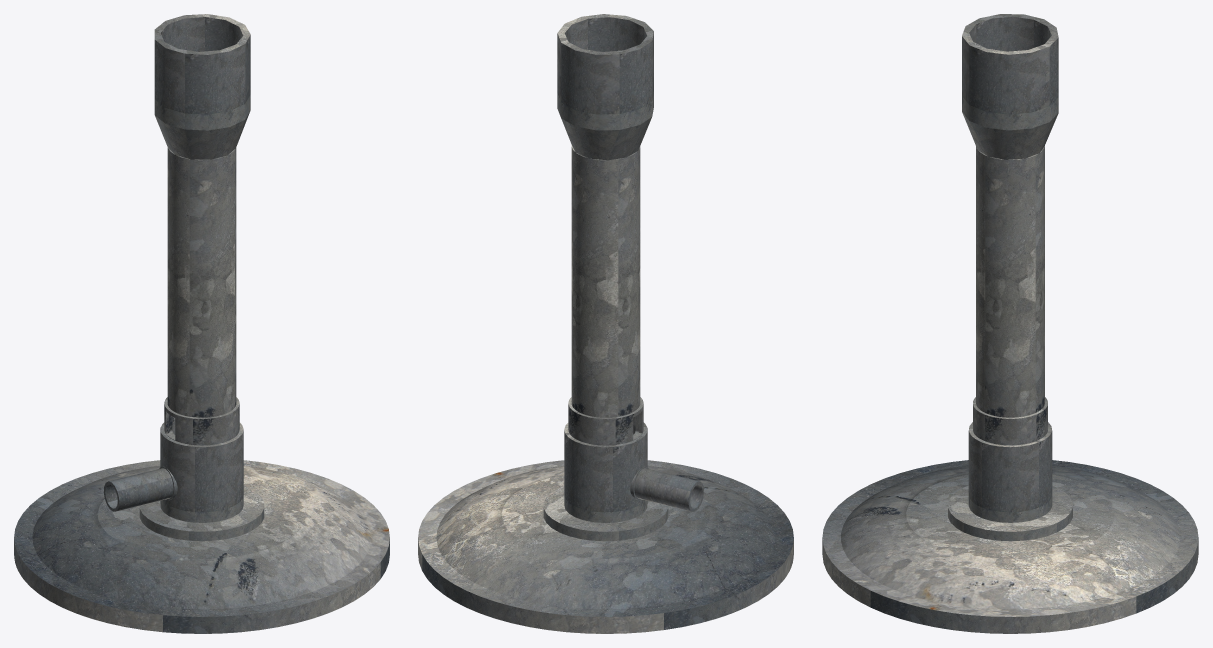
The picture shows the model from 3 angles, left to right: view 1: azimuth 30°, elevation 25°; view 2: azimuth 150°, elevation 25°; view 3: azimuth 270°, elevation 25°; orthographic projection.
Visible parts, largest first — view 1: Solid1, Solid1_2, Solid1_1, Solid1_3; view 2: Solid1, Solid1_2, Solid1_1, Solid1_3; view 3: Solid1, Solid1_2, Solid1_1, Solid1_3.
Boxes of the visible parts, <box> form: Solid1: <box>14,147,379,633</box>; Solid1_2: <box>14,460,389,633</box>; Solid1_1: <box>154,14,250,159</box>; Solid1_3: <box>164,397,239,445</box>; Solid1: <box>418,145,793,633</box>; Solid1_2: <box>418,460,793,633</box>; Solid1_1: <box>557,14,653,160</box>; Solid1_3: <box>568,397,643,445</box>; Solid1: <box>828,145,1192,633</box>; Solid1_2: <box>822,460,1198,633</box>; Solid1_1: <box>962,14,1058,159</box>; Solid1_3: <box>973,397,1047,445</box>.
Bounding box in the file's own units: 71.64 × 109 × 71.64.
1 material, 1 textured.
